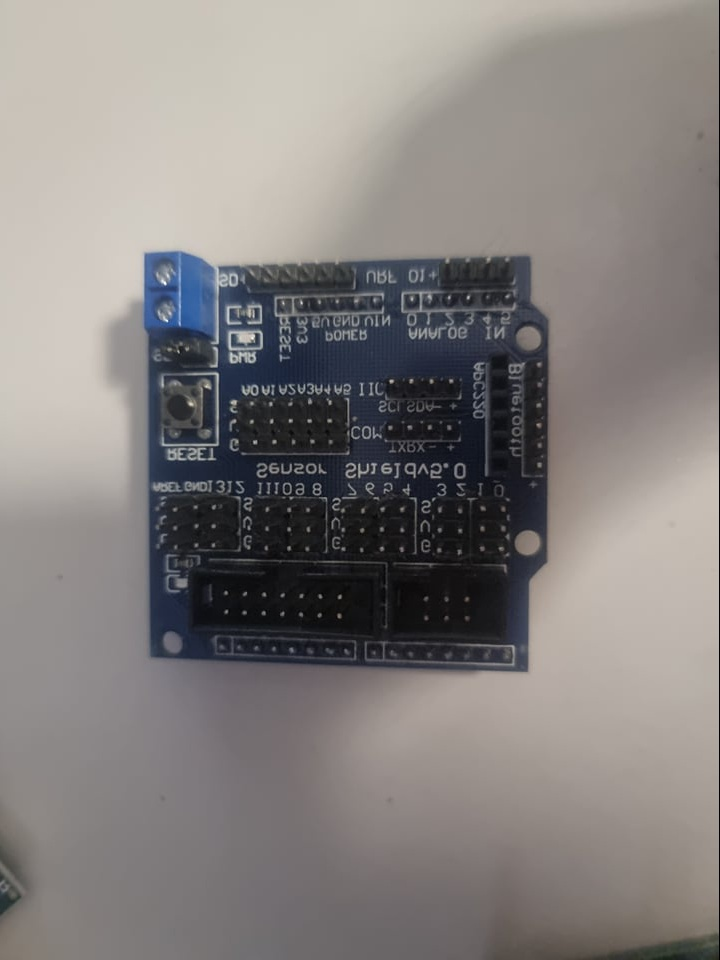5V EXPANSION: (145, 249, 551, 680)
